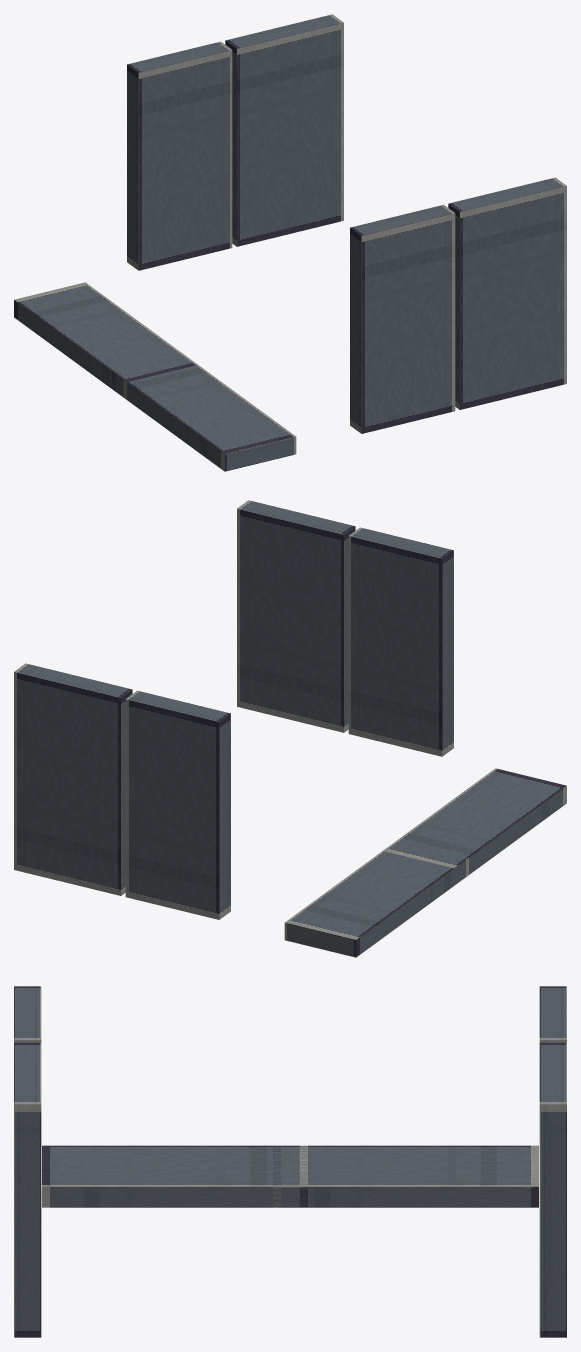
Rendered from bench_leggings_3.obj.
3 renders of one model, top to bottom at view 1: azimuth 30°, elevation 25°; view 2: azimuth 150°, elevation 25°; view 3: azimuth 270°, elevation 25°, orthographic. The views are drawn at different scales.
Parts seen in each view (by area): view 1: geometry; view 2: geometry; view 3: geometry.
Part boxes in pixels (left/top/right/bottom): geometry: left=14, top=14, right=566, bottom=471; geometry: left=14, top=500, right=566, bottom=957; geometry: left=14, top=986, right=566, bottom=1337.
Size of the model in its own units: 0.4039 by 0.25 by 0.4967.
